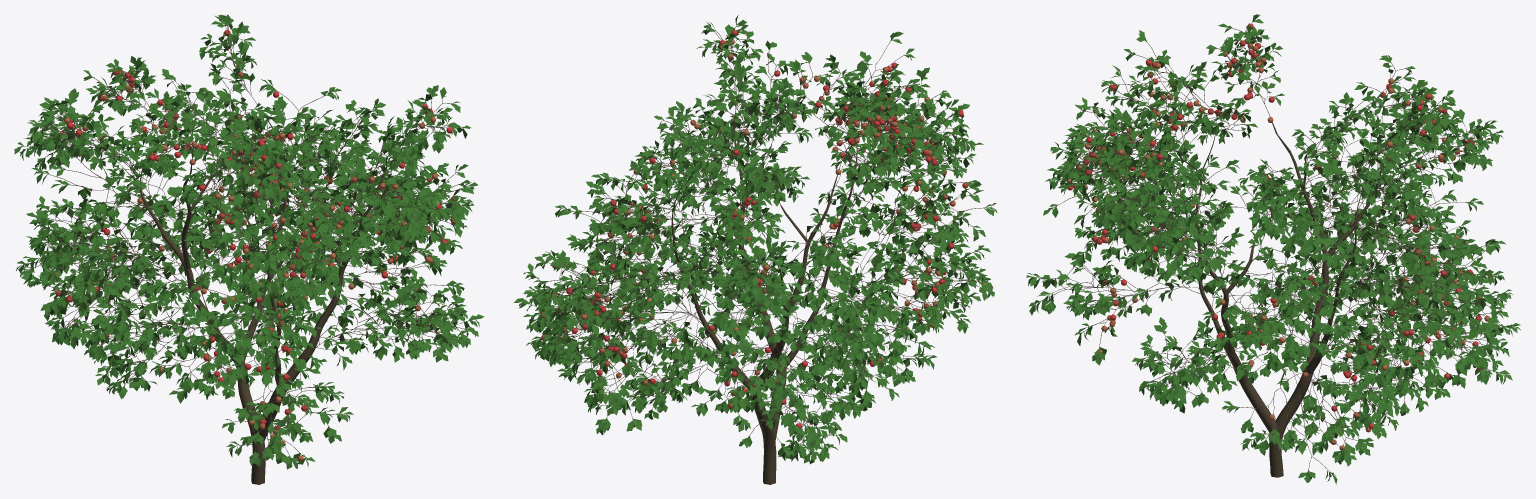
Rendered from apple.fbx.
3 renders of one model, left to right at view 1: azimuth 30°, elevation 25°; view 2: azimuth 150°, elevation 25°; view 3: azimuth 270°, elevation 25°, orthographic. The views are drawn at different scales.
Visible parts, largest first — view 1: Tree_Malus-domestica_A_summer; view 2: Tree_Malus-domestica_A_summer; view 3: Tree_Malus-domestica_A_summer.
Boxes of the visible parts, x1,y1,x2,y2 form: Tree_Malus-domestica_A_summer: [14, 14, 484, 484]; Tree_Malus-domestica_A_summer: [513, 15, 997, 484]; Tree_Malus-domestica_A_summer: [1026, 14, 1520, 484].
Bounding box in the file's own units: 595 × 576 × 626.
